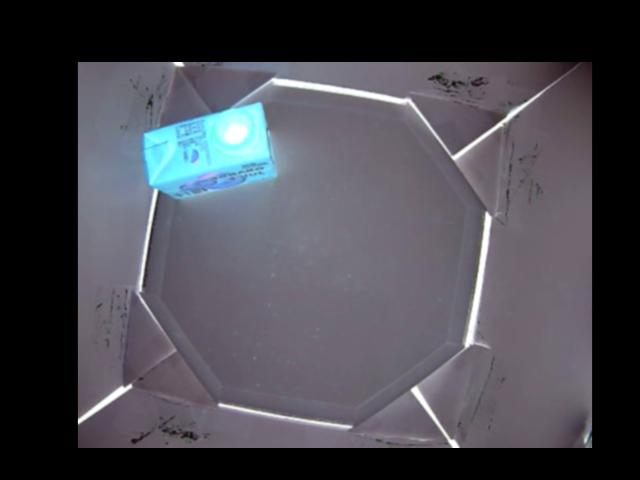Bottle: (141, 103, 277, 197)
